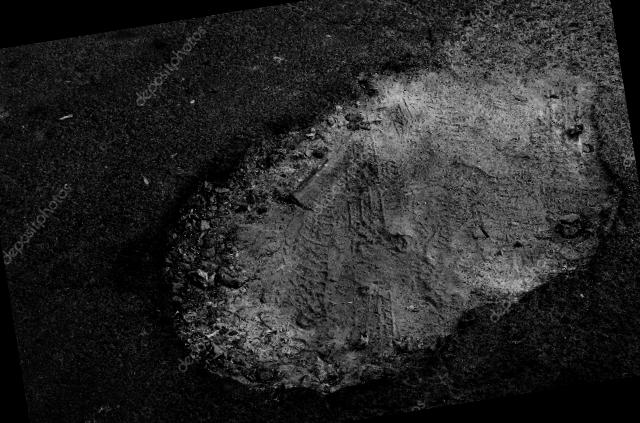Pothole: (42, 1, 640, 423)
